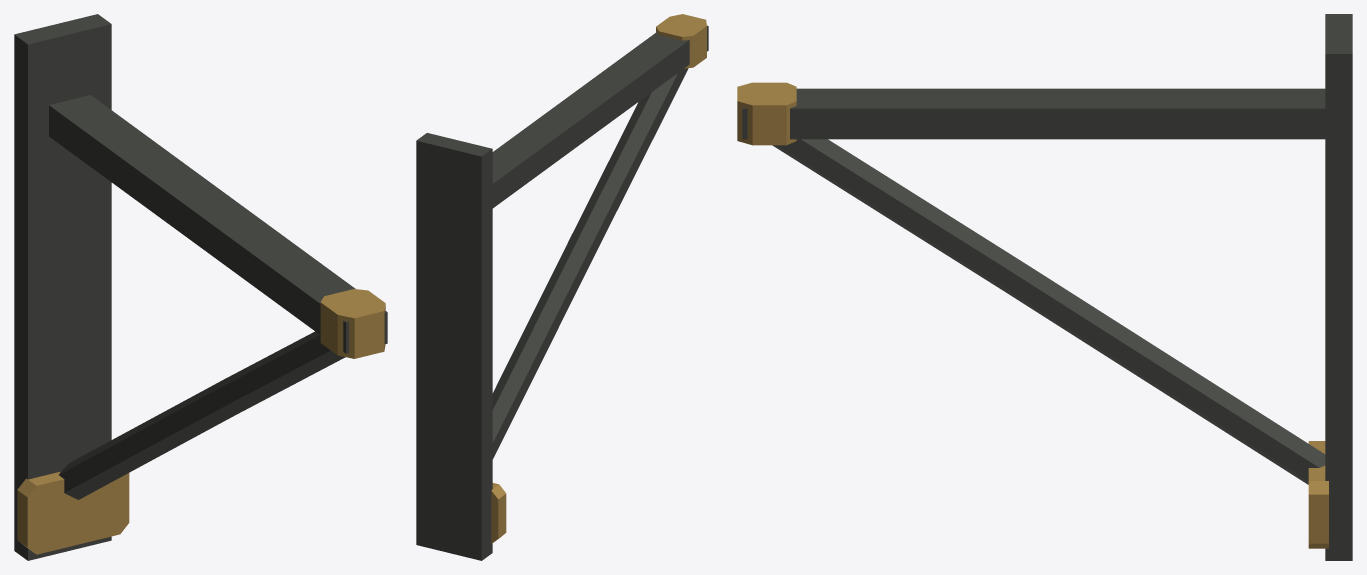
The model's file is b1_bracket.glb.
3 views of the same model, side by side, from view 1: azimuth 30°, elevation 25°; view 2: azimuth 150°, elevation 25°; view 3: azimuth 270°, elevation 25° (orthographic). The views are drawn at different scales.
Visible parts, largest first — view 1: b1_bracket; view 2: b1_bracket; view 3: b1_bracket.
Part boxes in pixels (x1,y1,x2,y2): b1_bracket: (14,14,387,560); b1_bracket: (416,14,708,560); b1_bracket: (737,14,1352,560).
Size of the model in its own units: 0.34 by 1.65 by 1.82.
